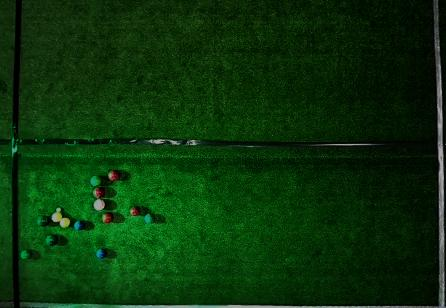blue: (73, 220, 85, 231), (96, 248, 107, 259)
green: (46, 234, 58, 246), (21, 249, 33, 260), (38, 216, 50, 227), (90, 175, 102, 186), (144, 214, 154, 223)
red: (102, 212, 114, 224), (93, 199, 105, 211), (93, 187, 105, 198), (108, 170, 120, 181), (130, 207, 140, 217)
vline: (1, 0, 23, 307), (430, 0, 445, 308)
white: (56, 207, 61, 212)
yellow: (59, 217, 71, 228), (51, 212, 63, 223)
